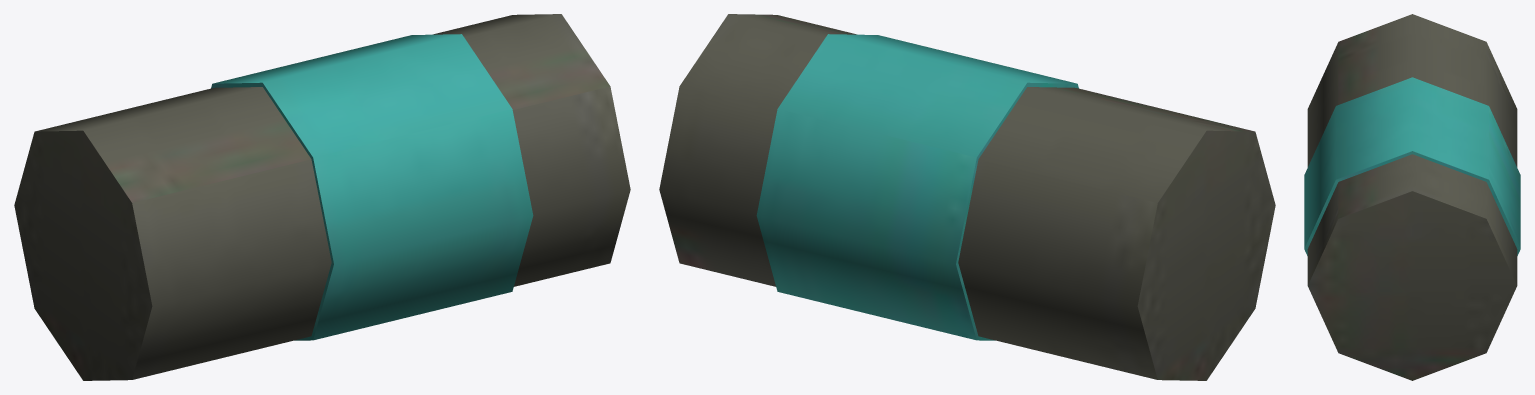
File: tesla-ammo.glb
The picture shows the model from 3 angles, left to right: view 1: azimuth 30°, elevation 25°; view 2: azimuth 150°, elevation 25°; view 3: azimuth 270°, elevation 25°; orthographic projection. The views are drawn at different scales.
Parts seen in each view (by area): view 1: tesla-ammo; view 2: tesla-ammo; view 3: tesla-ammo.
Part boxes in pixels (x1,y1,x2,y2): tesla-ammo: (14,14,630,380); tesla-ammo: (659,14,1275,380); tesla-ammo: (1304,14,1520,380).
Bounding box in the file's own units: 0.24 × 0.124 × 0.124.
Materials: 1 (1 with a texture image).
